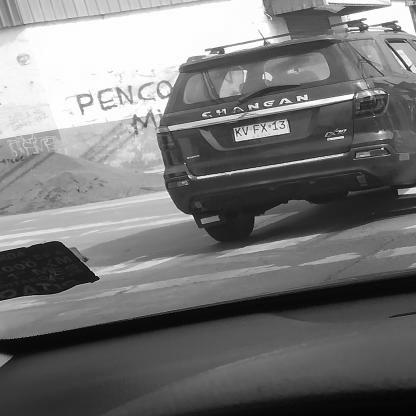Patente: (229, 118, 294, 144)
